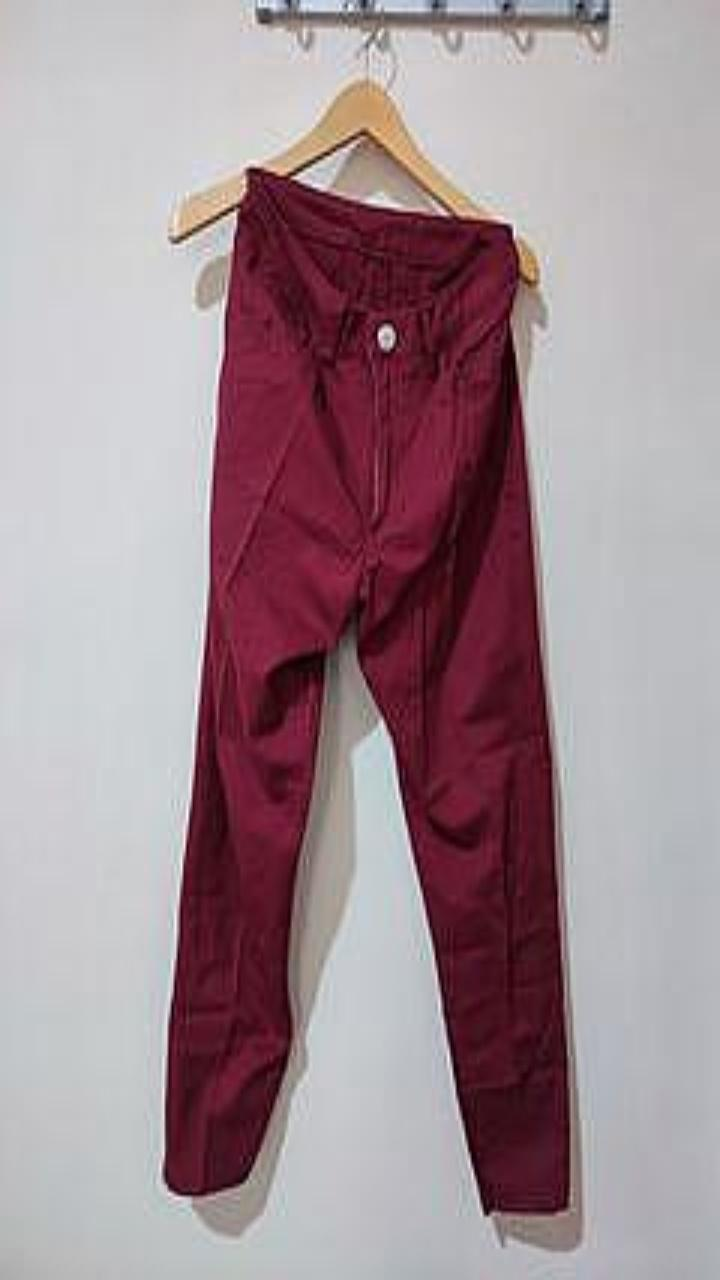Jeans: (164, 166, 568, 1212)
